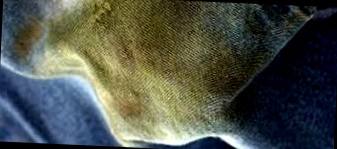earth: (59, 0, 233, 136)
